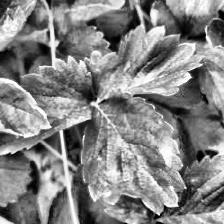Powdery Mildew Leaf: (80, 86, 187, 217), (0, 64, 53, 144), (0, 0, 40, 86), (203, 17, 224, 122)
